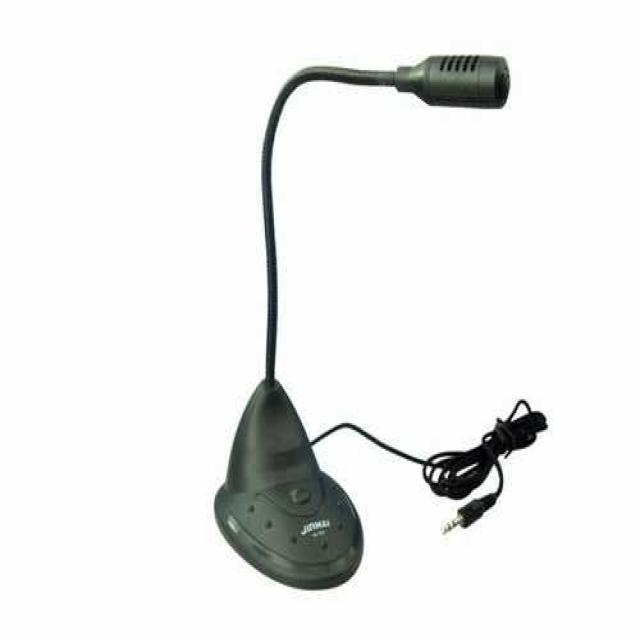microphone: (361, 44, 517, 114)
